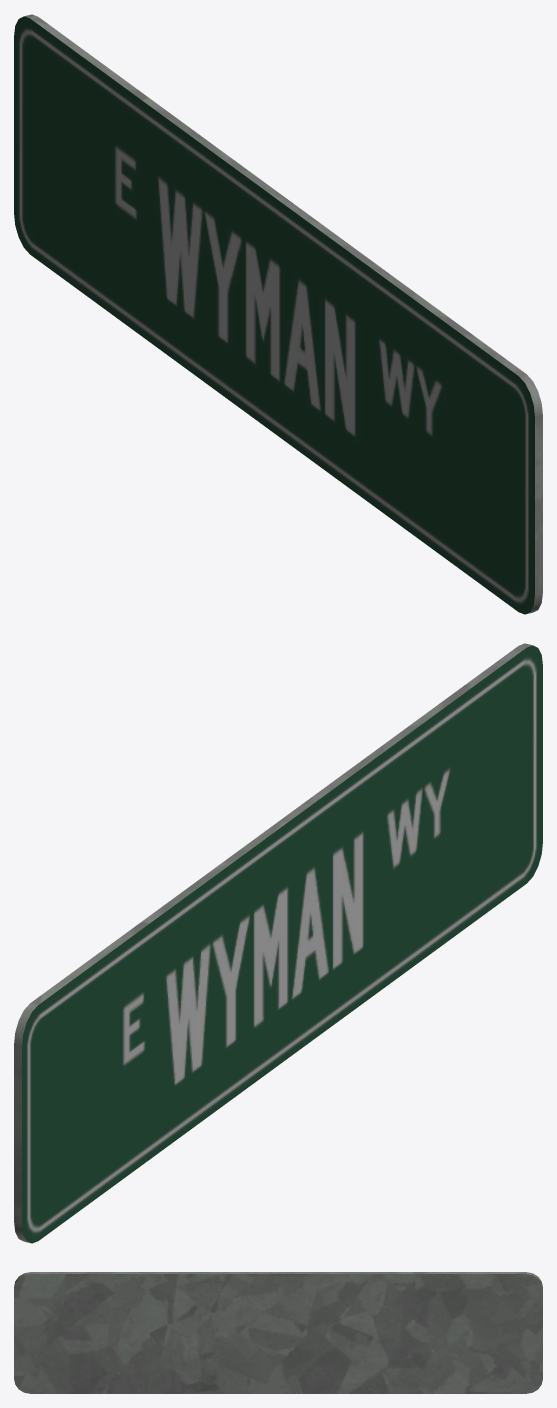
The picture shows the model from 3 angles, top to bottom: view 1: azimuth 30°, elevation 25°; view 2: azimuth 150°, elevation 25°; view 3: azimuth 270°, elevation 25°; orthographic projection. The views are drawn at different scales.
Visible parts, largest first — view 1: Signal_Sign_Wyman_496; view 2: Signal_Sign_Wyman_496; view 3: Signal_Sign_Wyman_496.
Boxes of the visible parts, left/top/right/bottom form: Signal_Sign_Wyman_496: left=14, top=14, right=542, bottom=614; Signal_Sign_Wyman_496: left=14, top=643, right=542, bottom=1243; Signal_Sign_Wyman_496: left=14, top=1272, right=542, bottom=1393.
Bounding box in the file's own units: 0.00803 × 0.2267 × 0.9069.
1 material, 1 textured.
